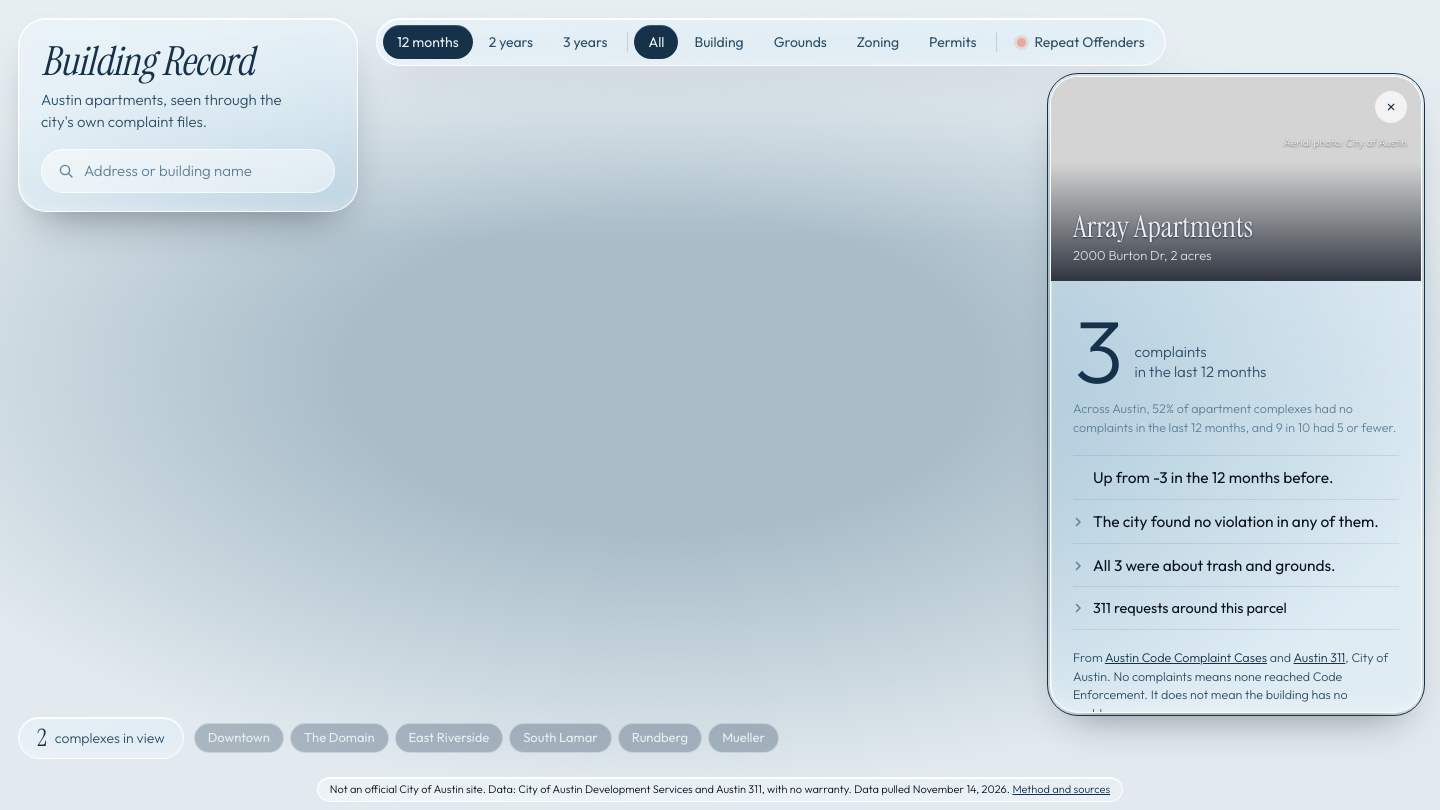
Test case: leaves for an area in one render, with the fly, and the count follows the map from there
Click the button "Downtown": [239, 738] box left=194, top=723, right=284, bottom=753
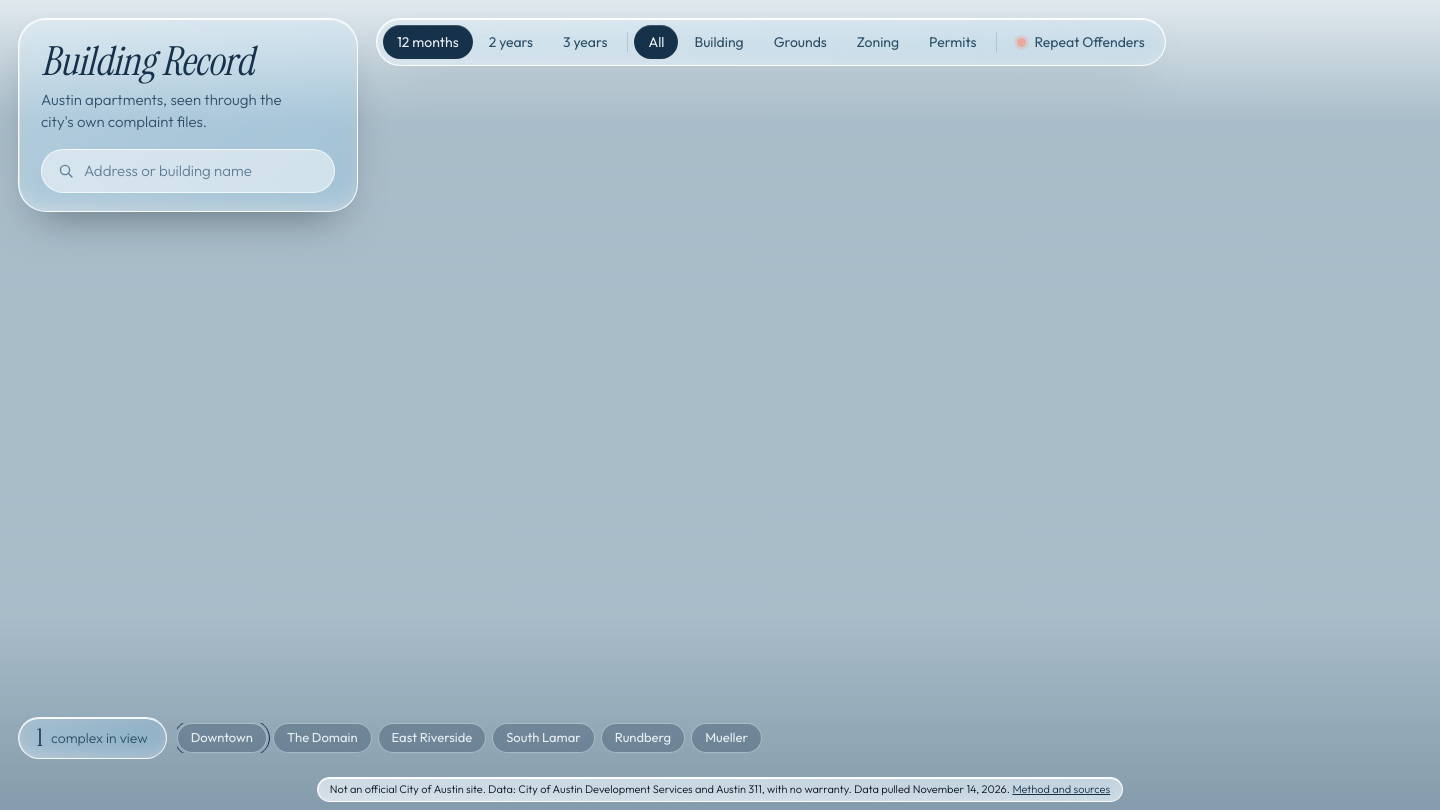
Result: the element "1 complex in view" is shown at left=18, top=717, right=762, bottom=759
